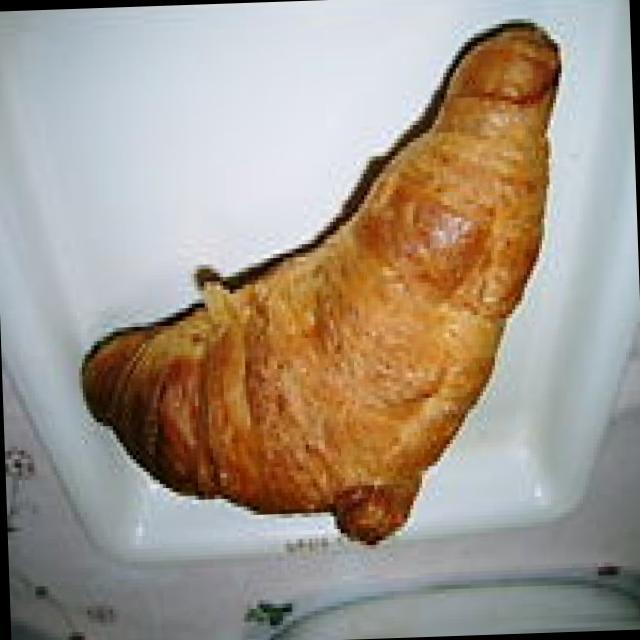Croissant: (78, 24, 580, 553)
